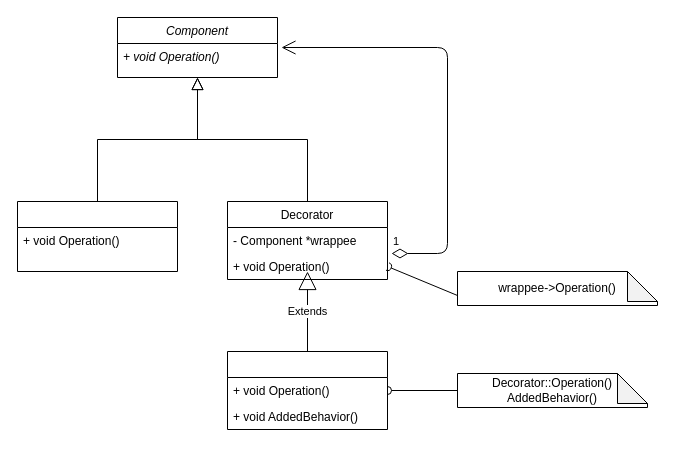
This 675x450 diagram has some shape labels left out. The shapes that lost their labels are listed below. From the top down, each one's box as (x1, y1, x2, y2) in pixels, then its label:
(16, 200, 178, 272): ConcreteComponent
(226, 350, 388, 430): ConcreteDecorator
